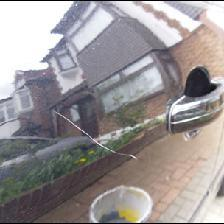scrach: (78, 137, 140, 160)
